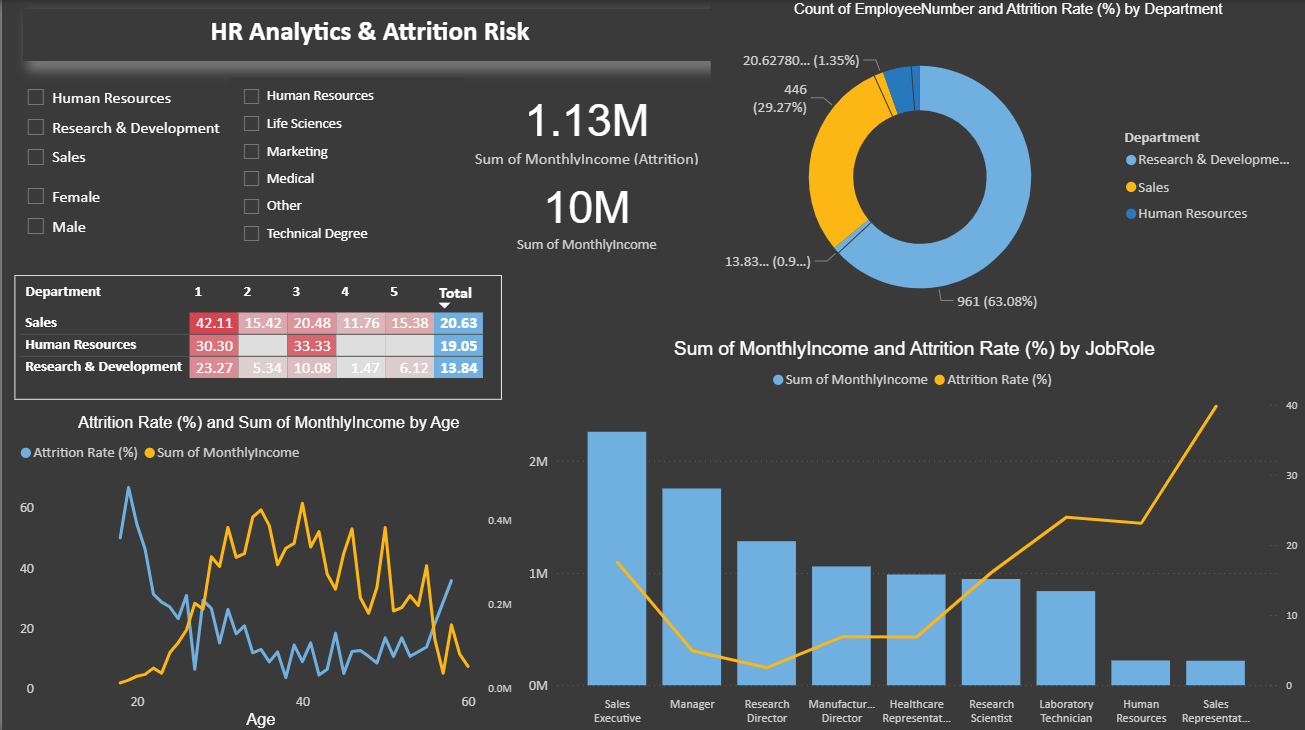

Layout of this report page (visuals, bound fields, positions):
{"tool":"powerbi","page":{"name":"Page 1","canvas":[1280,720],"ordinal":0},"visuals":[{"type":"pivotTable","fields":{"Rows":["HR database1.Department"],"Values":["HR database1.Attrition Rate (%)"],"Columns":["HR database1.JobLevel"]},"box":[12.5,270.5,478.5,122.1],"z":0},{"type":"card","fields":{"Values":["Sum(HR database1.Total Monthly Income (Attrition))"]},"box":[452.8,83.4,242.9,83.4],"z":1000},{"type":"slicer","fields":{"Values":["HR database1.Department"]},"box":[12.3,76.1,212.3,96.9],"z":2000},{"type":"lineChart","fields":{"Y":["HR database1.Attrition Rate (%)"],"Category":["HR database1.Age"],"Y2":["Sum(HR database1.MonthlyIncome)"]},"box":[12.5,406.4,499.4,313.5],"z":3000},{"type":"textbox","box":[20.9,11,674.9,51.5],"z":4000},{"type":"donutChart","fields":{"Y":["Count(HR database1.EmployeeNumber)","HR database1.Attrition Rate (%)"],"Category":["HR database1.Department"]},"box":[695.7,0,584.1,331.3],"z":5000},{"type":"card","fields":{"Values":["Sum(HR database1.MonthlyIncome)"]},"box":[499.4,164.4,149.7,90.8],"z":6000},{"type":"slicer","fields":{"Values":["HR database1.Gender"]},"box":[12.3,173,128.8,96.9],"z":7000},{"type":"lineClusteredColumnComboChart","fields":{"Category":["HR database1.JobRole"],"Y":["Sum(HR database1.MonthlyIncome)"],"Y2":["HR database1.Attrition Rate (%)"]},"box":[511.7,331.3,768.1,389],"z":8000},{"type":"slicer","fields":{"Values":["HR database1.EducationField"]},"box":[224.5,76.1,228.2,179.1],"z":9000}]}

Visuals, with their boxes in screenshot pixels (x1, y1, x2, y2), scaled from the page's 1280x720 canvas onto the 1305x730 screenshot:
pivotTable - HR database1.Department x HR database1.Attrition Rate (%): (13, 274, 501, 398)
card - Sum(HR database1.Total Monthly Income (Attrition)): (462, 85, 709, 169)
slicer - HR database1.Department: (13, 77, 229, 175)
lineChart - HR database1.Attrition Rate (%) x HR database1.Age: (13, 412, 522, 729)
textbox: (21, 11, 709, 63)
donutChart - Count(HR database1.EmployeeNumber) x HR database1.Attrition Rate (%): (709, 0, 1304, 336)
card - Sum(HR database1.MonthlyIncome): (509, 167, 662, 259)
slicer - HR database1.Gender: (13, 175, 144, 274)
lineClusteredColumnComboChart - HR database1.JobRole x Sum(HR database1.MonthlyIncome): (522, 336, 1304, 729)
slicer - HR database1.EducationField: (229, 77, 462, 259)
